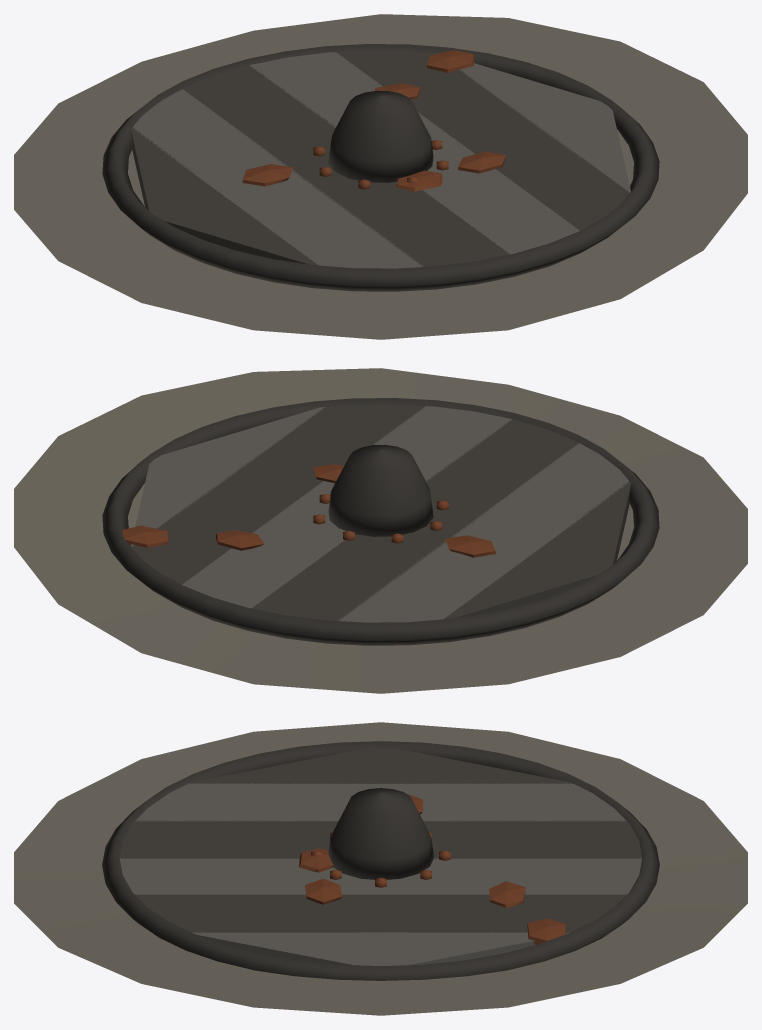
The model's file is atlas-shield.glb.
3 renders of one model, top to bottom at view 1: azimuth 30°, elevation 25°; view 2: azimuth 150°, elevation 25°; view 3: azimuth 270°, elevation 25°, orthographic.
Parts seen in each view (by area): view 1: atlas-shield; view 2: atlas-shield; view 3: atlas-shield.
Part boxes in pixels (x1,y1,x2,y2): atlas-shield: (14, 14, 747, 339); atlas-shield: (14, 368, 747, 693); atlas-shield: (14, 722, 747, 1015).
Size of the model in its own units: 1.26 by 0.162 by 1.24.
